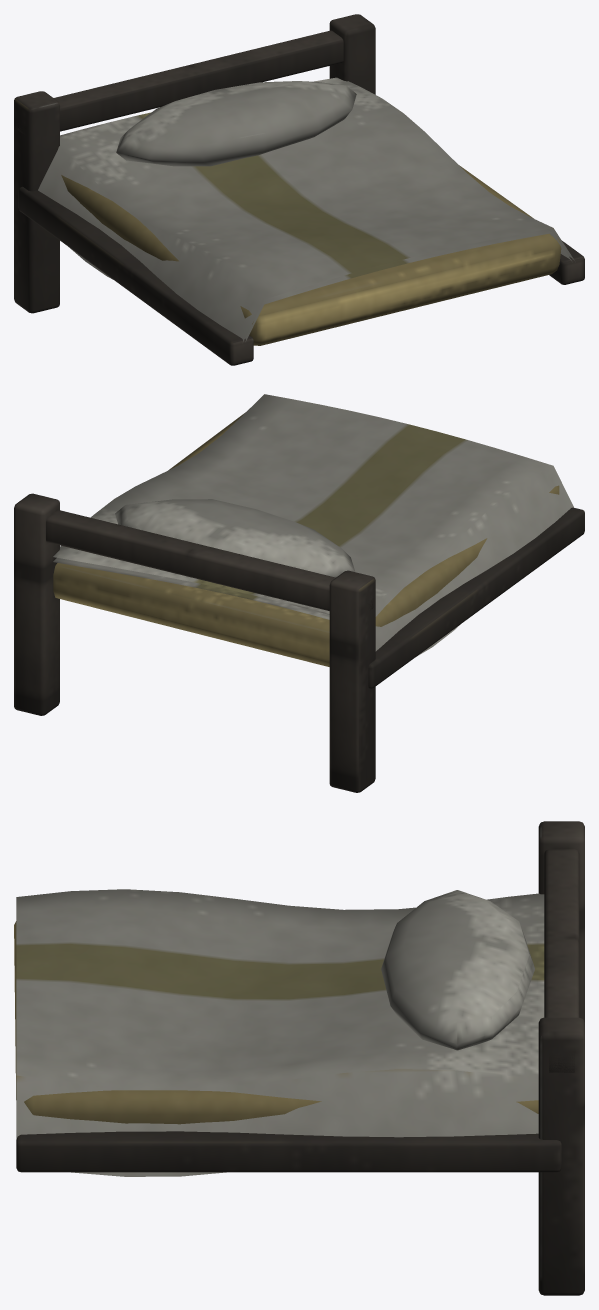
Rendered from sick_cot_head.obj.
3 renders of one model, top to bottom at view 1: azimuth 30°, elevation 25°; view 2: azimuth 150°, elevation 25°; view 3: azimuth 270°, elevation 25°, orthographic. The views are drawn at different scales.
Visible parts, largest first — view 1: part3, part0, part1, part2; view 2: part3, part0, part1, part2; view 3: part3, part0, part2, part1.
Part boxes in pixels (box(x1,y1,x2,y2)): part3: box(38, 77, 574, 341); part0: box(14, 14, 584, 365); part1: box(61, 165, 561, 345); part2: box(137, 112, 408, 278); part3: box(53, 394, 573, 656); part0: box(14, 493, 584, 792); part1: box(53, 412, 559, 666); part2: box(195, 424, 466, 599); part3: box(16, 889, 544, 1176); part0: box(16, 821, 584, 1295); part2: box(16, 943, 544, 999); part1: box(14, 921, 538, 1124).
Size of the model in its own units: 0.9 by 0.5 by 0.9841.
